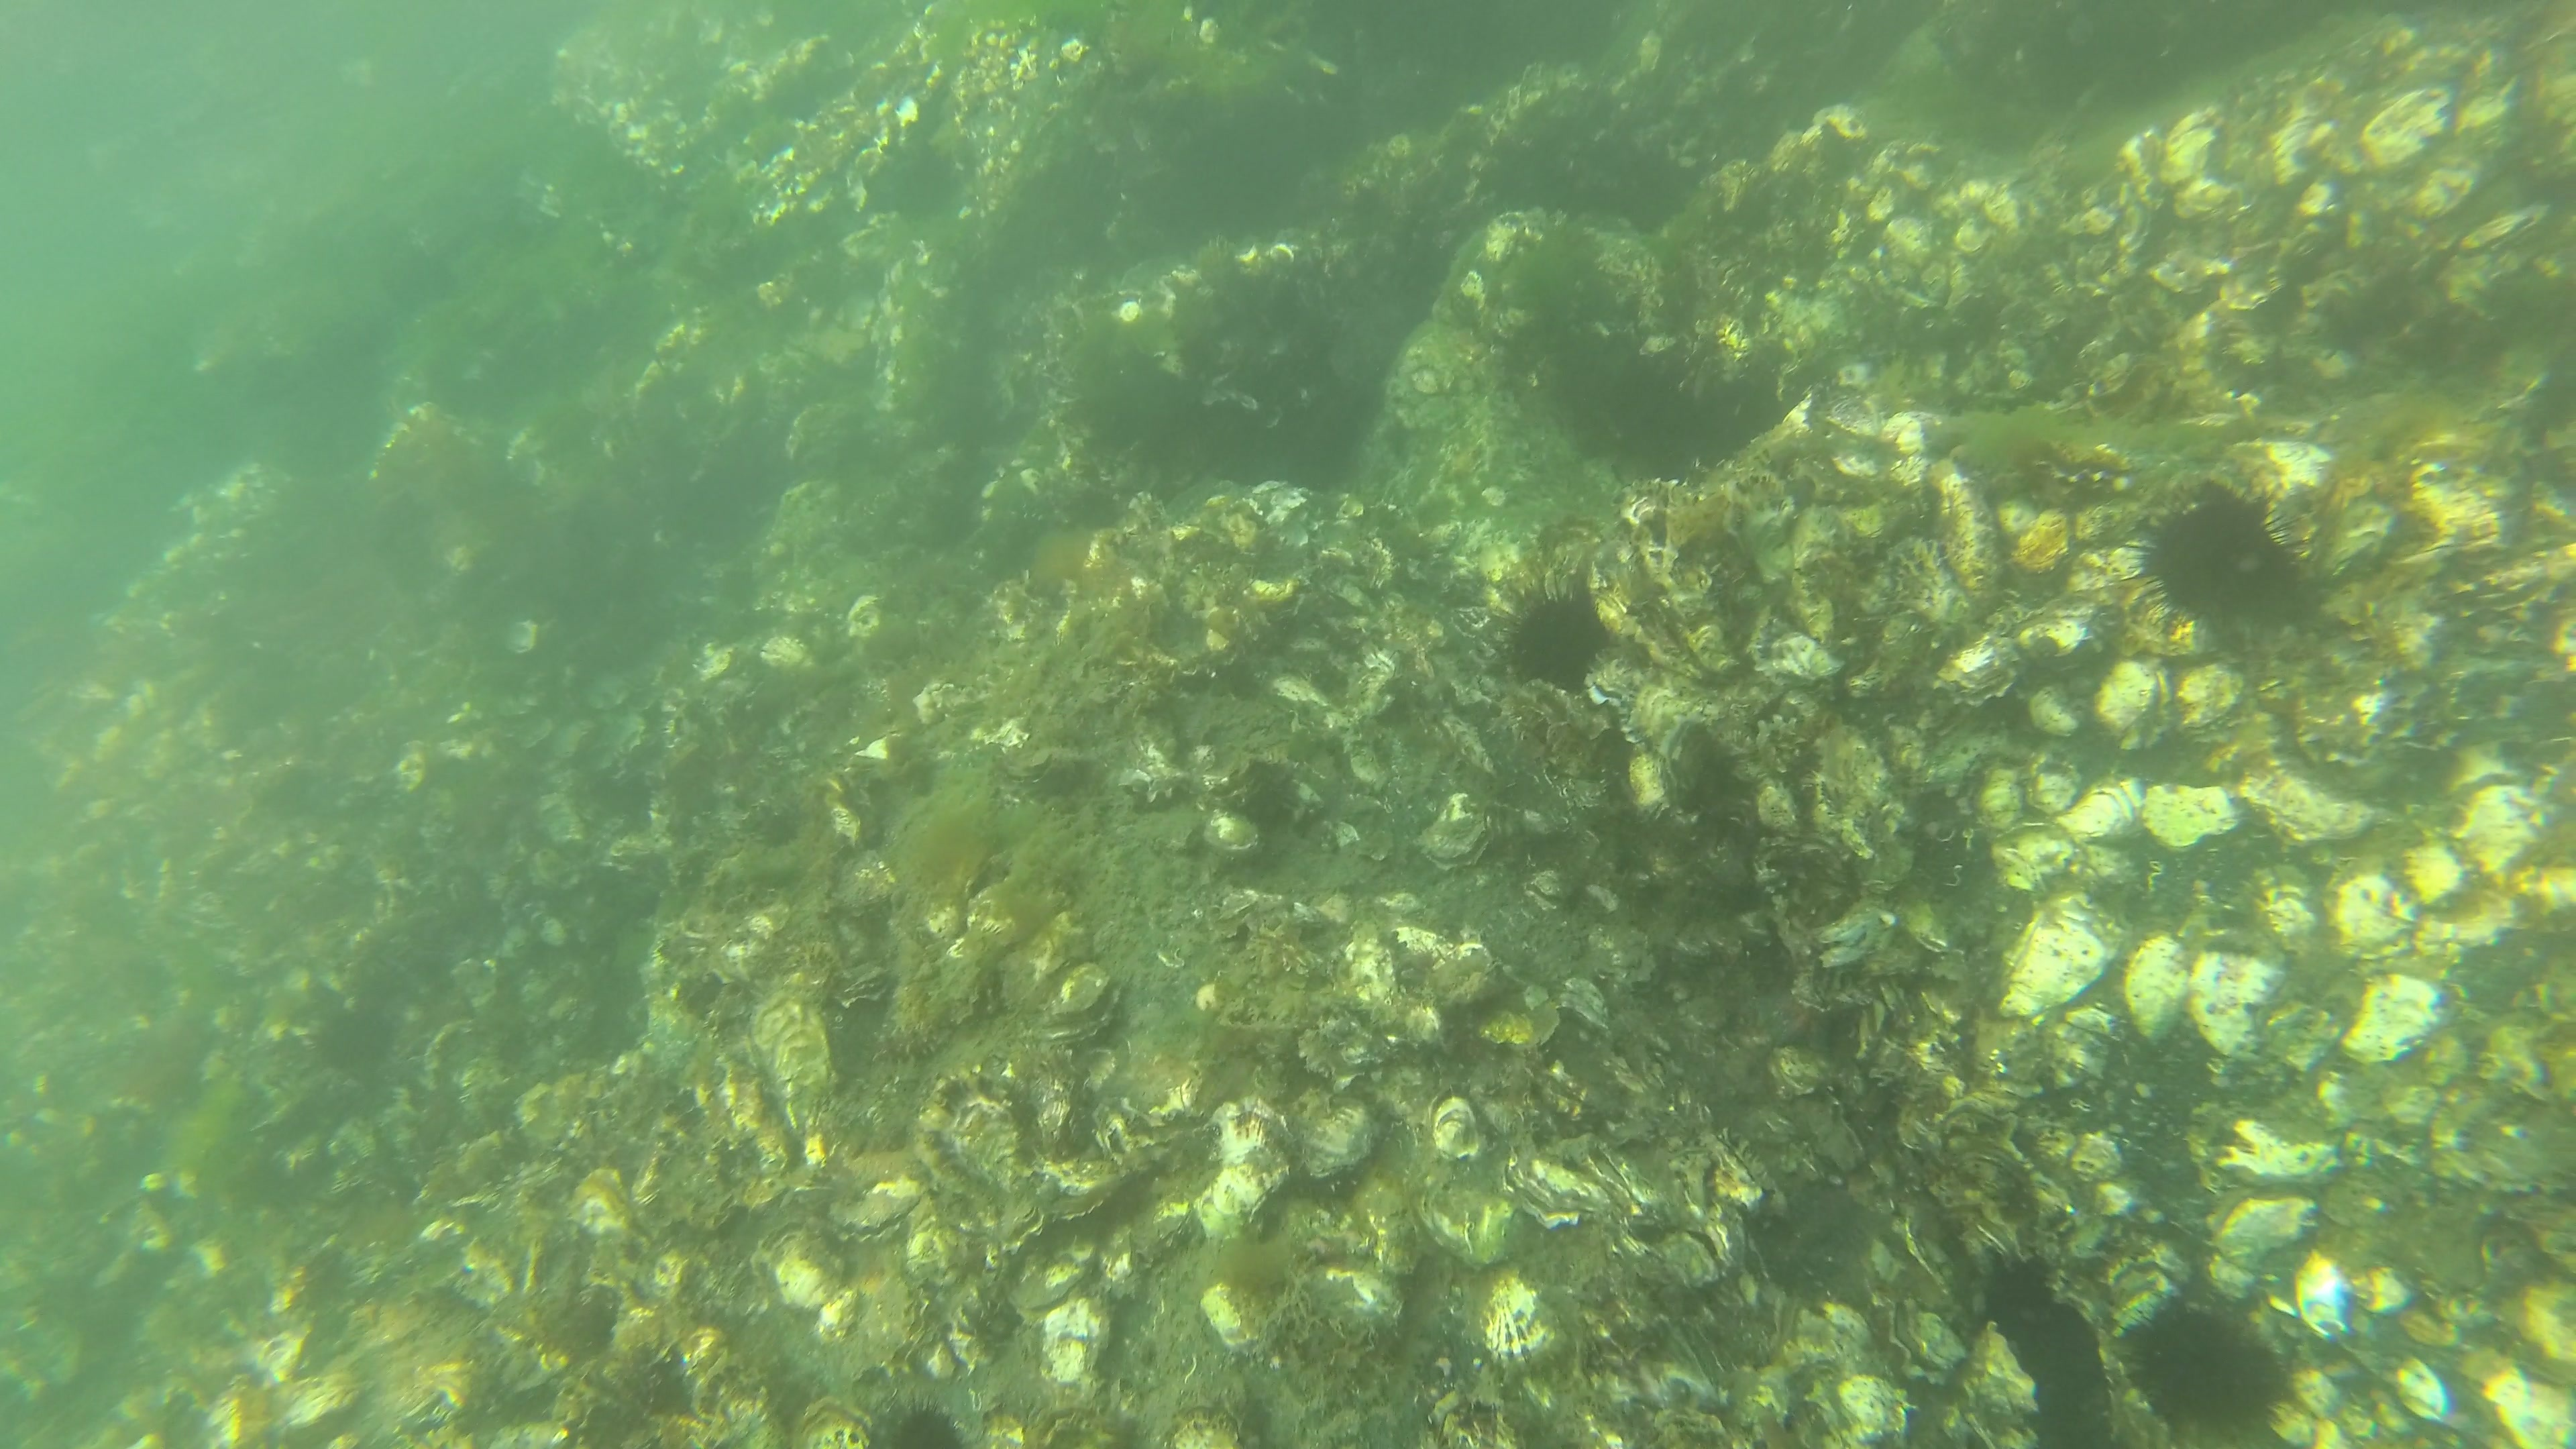echinus: (2130, 497, 2307, 626), (2118, 1293, 2286, 1415), (1493, 591, 1612, 688), (862, 1401, 961, 1449)
starfish: (1753, 982, 1831, 1049)
